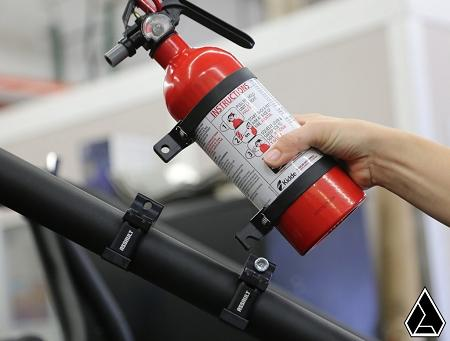Fire Extinguisher: (95, 0, 380, 266)
